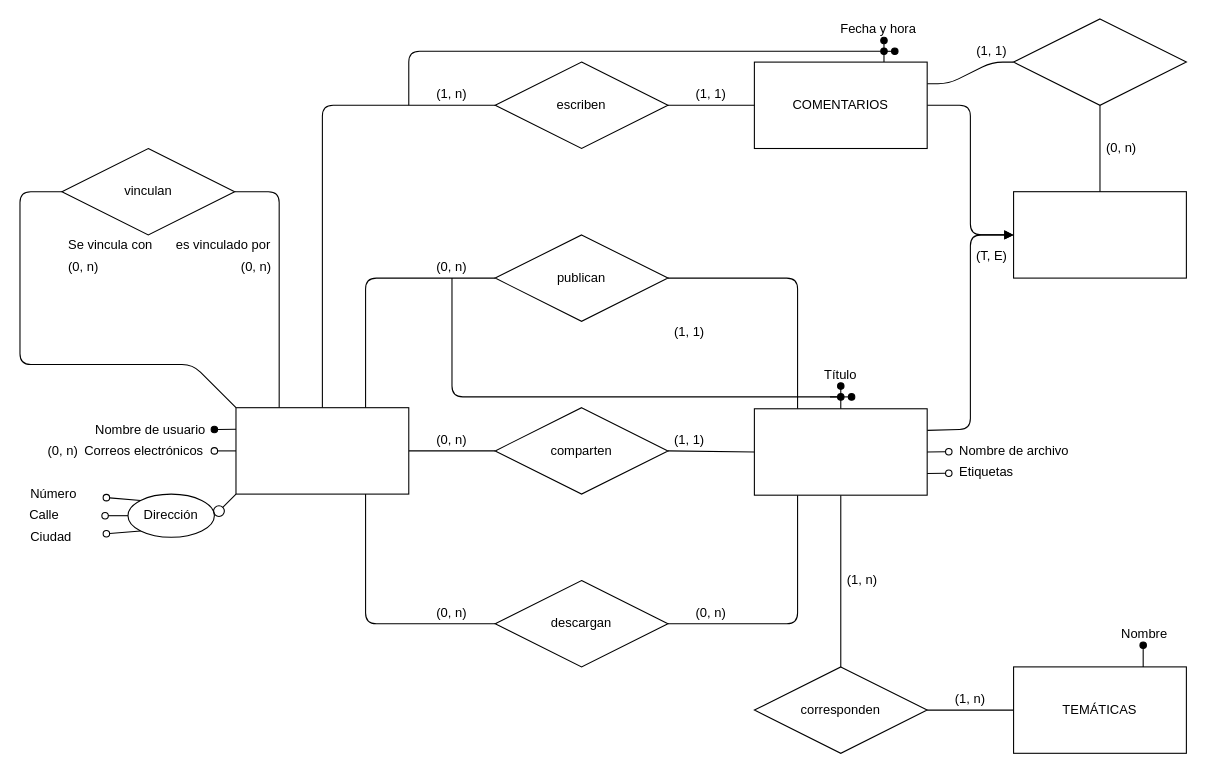
This 1205x772 diagram has some shape labels left out. Each missing label, with the centre of its shape:
CONTENIDOS: pixel 1099 234
IMÁGENES: pixel 840 451
responden: pixel 1099 61
USUARIOS: pixel 322 450
